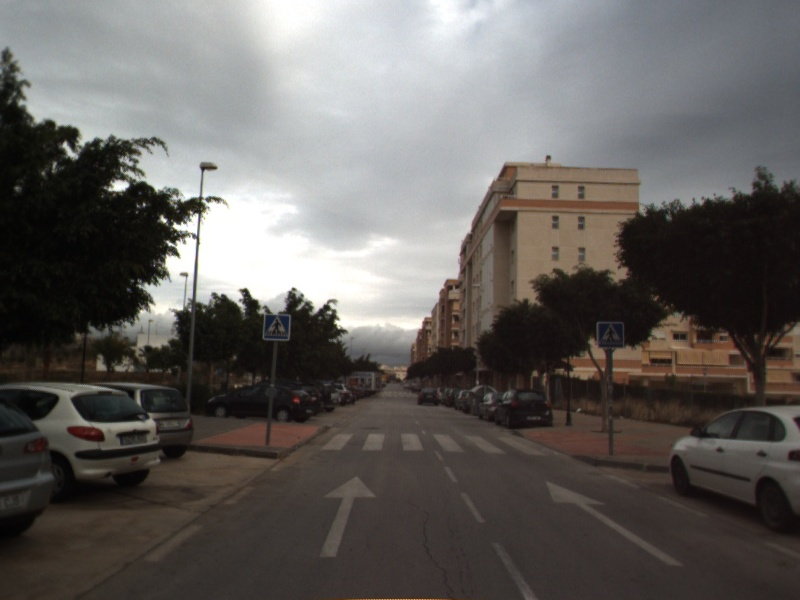STRAIGHT: (544, 479, 686, 568), (317, 473, 379, 559)
